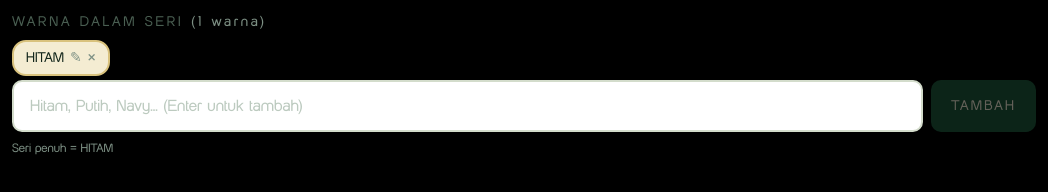
Test: WarnaSection › rename warna › mengetik ulang setelah error akan menghapus pesan error
Click the button titled "Ganti nama warna" at (76, 58), box [70,51,82,65]
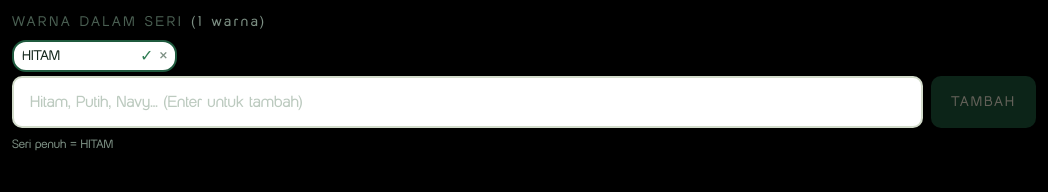
Clear the field showing "HITAM" at (78, 56), box [22,46,134,66]
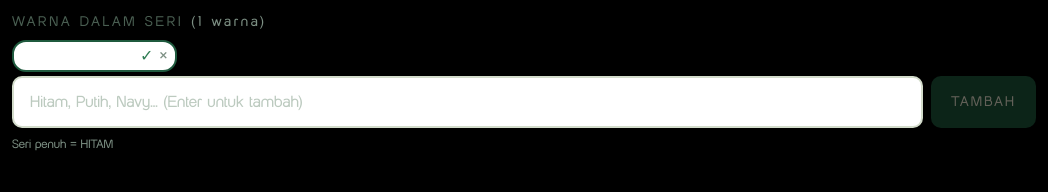
Click the button titled "Simpan nama warna" at (147, 56), box [140,48,153,64]
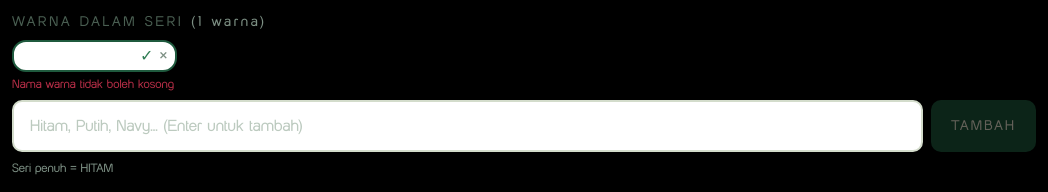
Check: the text "Nama warna tidak boleh kosong" is shown, box [12,76,174,91]
Type "N" into the field showing "HITAM" at (78, 56), box [22,46,134,66]
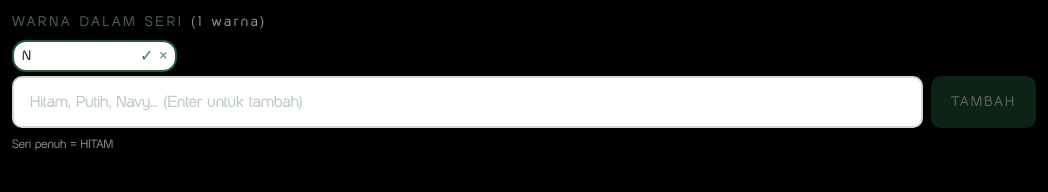
Check: the text "Nama warna tidak boleh kosong" is gone
